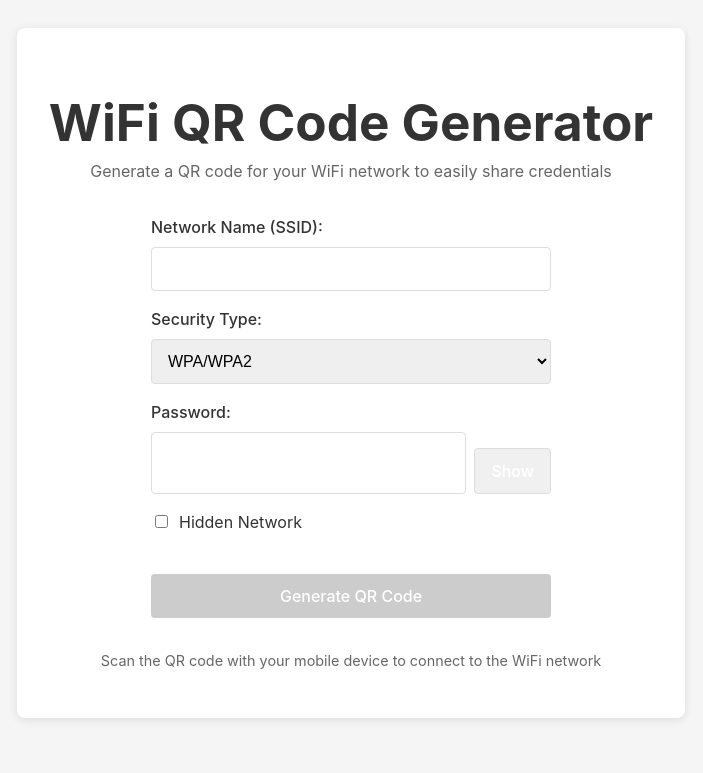
Test: App › shows error message when formatWifiString throws an error
Type "MyNetwork" into the field labelled "Network Name (SSID):" at (351, 269), box top-left (151, 247), bottom-right (551, 291)
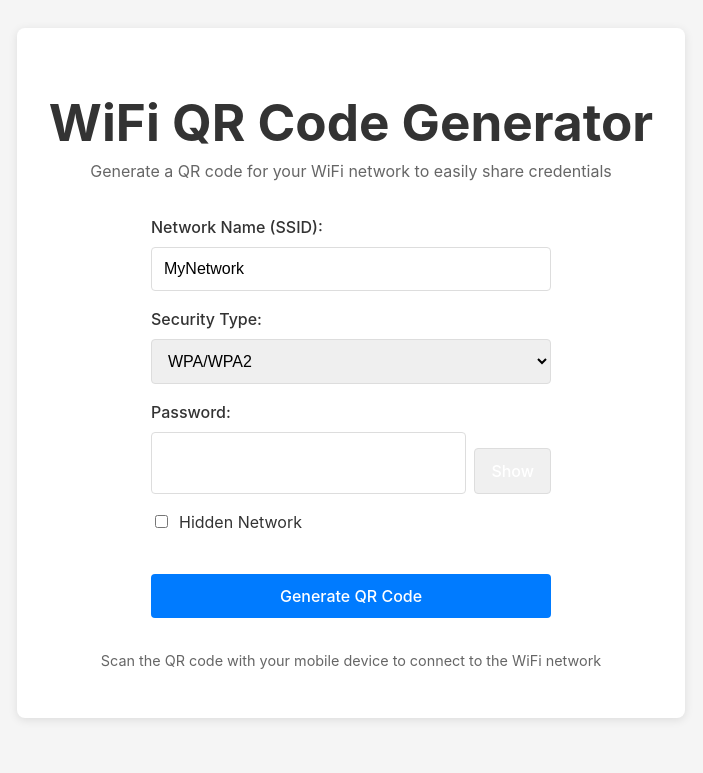
Type "MyPassword" into the password field labelled "Password:" at (309, 463), box top-left (151, 432), bottom-right (466, 494)
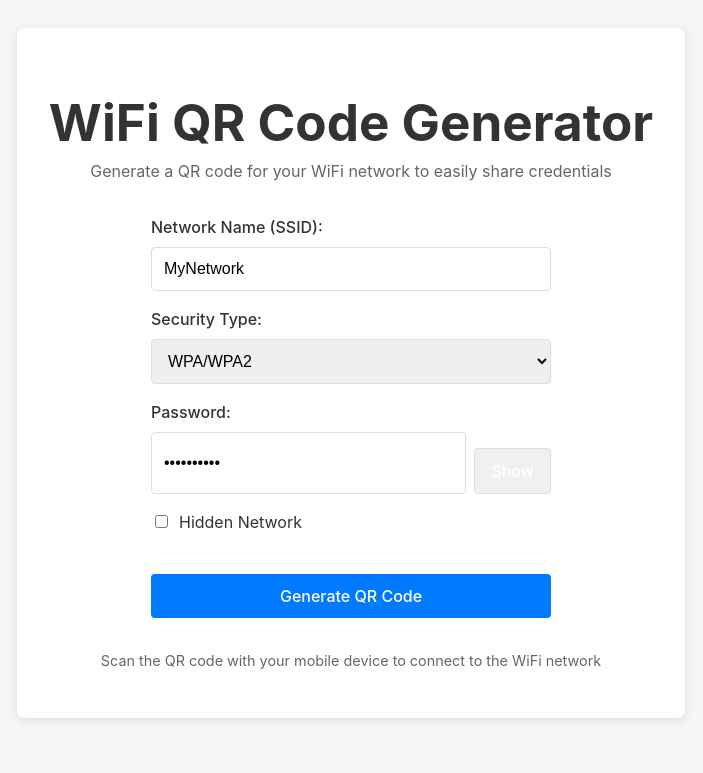
Click the button "Generate QR Code" at (351, 596), box top-left (151, 574), bottom-right (551, 618)
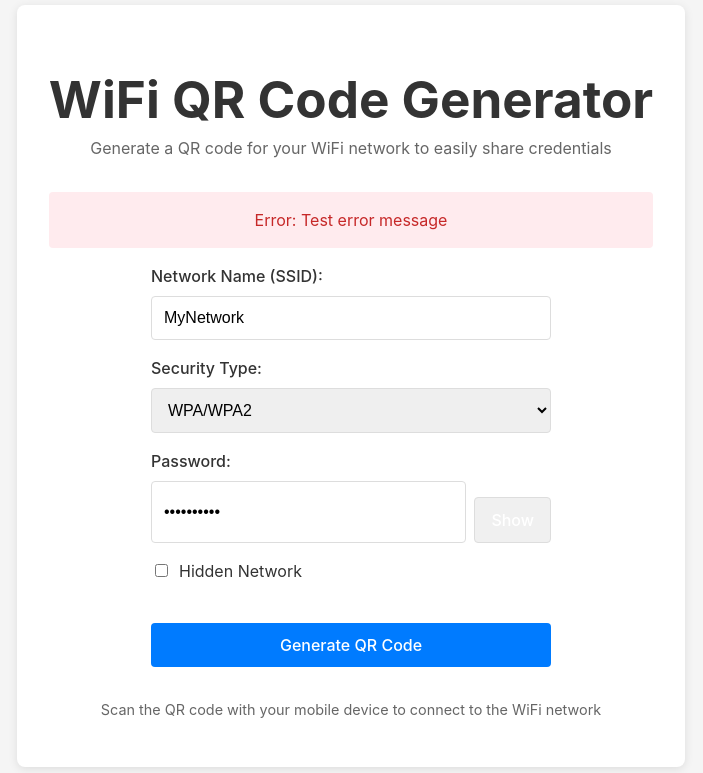
Now the text "Error: Test error message" is shown, box top-left (49, 192), bottom-right (653, 248)
